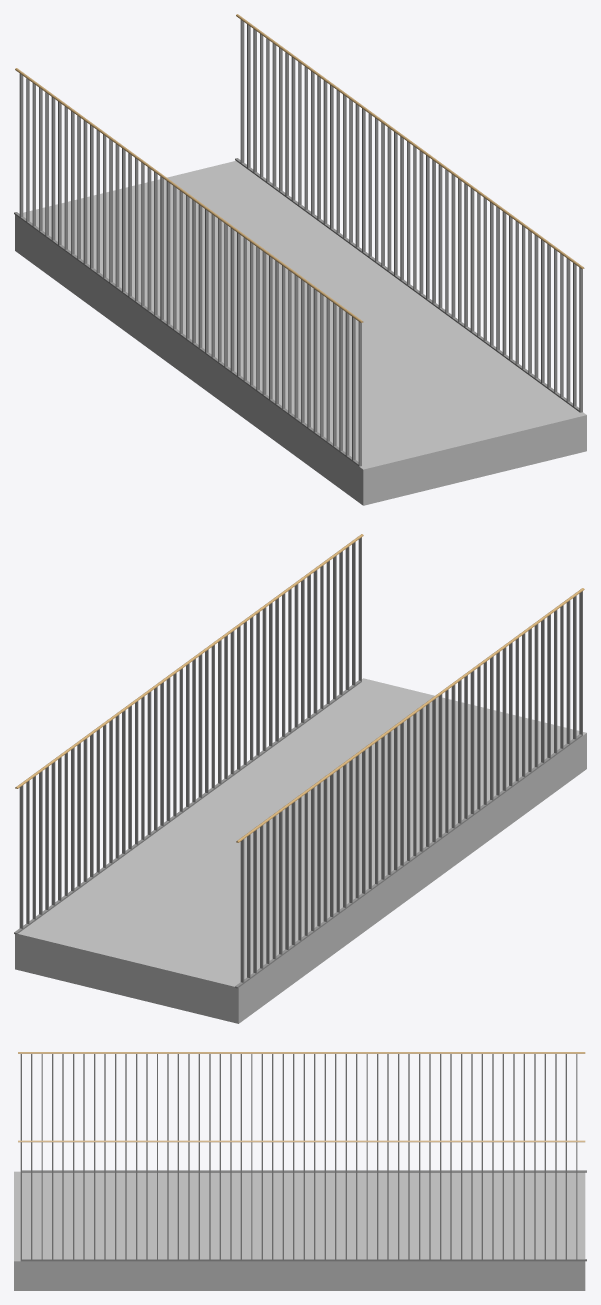
The model's file is bridge.obj.
3 renders of one model, top to bottom at view 1: azimuth 30°, elevation 25°; view 2: azimuth 150°, elevation 25°; view 3: azimuth 270°, elevation 25°, orthographic. The views are drawn at different scales.
Parts seen in each view (by area): view 1: floor, ramp, upper_ramp; view 2: floor, ramp, upper_ramp; view 3: floor, ramp, upper_ramp.
Part boxes in pixels (x1=…): floor: x1=15, y1=161, x2=586, y2=505; ramp: x1=14, y1=20, x2=582, y2=466; upper_ramp: x1=15, y1=14, x2=584, y2=322; floor: x1=15, y1=678, x2=586, y2=1023; ramp: x1=14, y1=537, x2=582, y2=988; upper_ramp: x1=15, y1=534, x2=584, y2=842; floor: x1=14, y1=1171, x2=585, y2=1290; ramp: x1=20, y1=1054, x2=586, y2=1261; upper_ramp: x1=18, y1=1052, x2=585, y2=1142.
Bounding box in the file's own units: 1.62 × 1.26 × 4.37.
